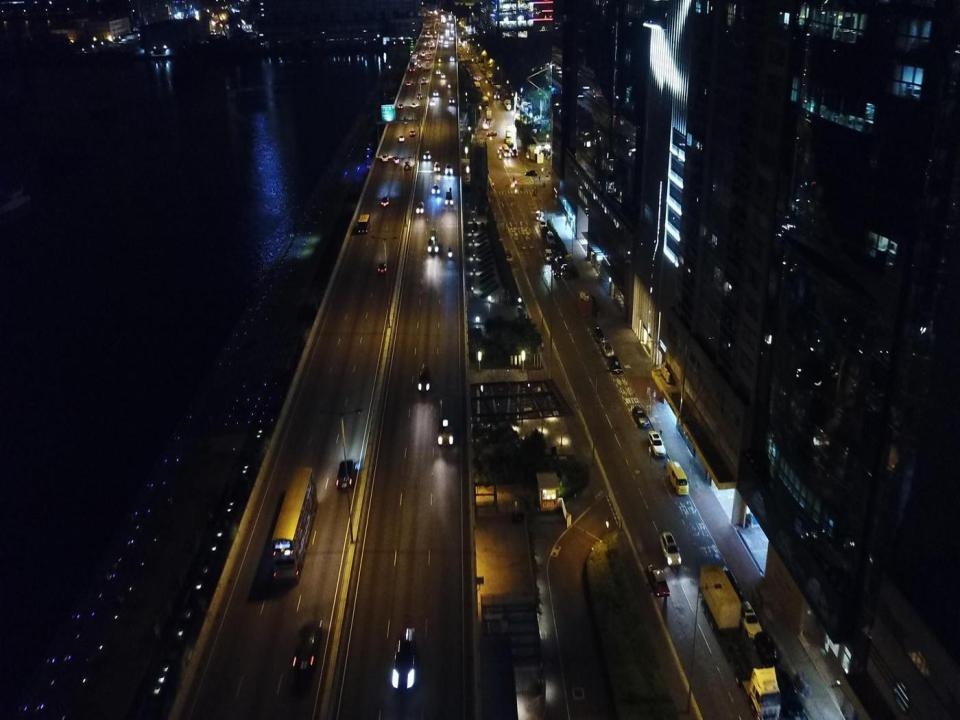bus: (272, 467, 318, 583), (438, 396, 453, 446), (428, 229, 437, 252), (551, 259, 561, 277), (502, 144, 510, 156), (412, 51, 418, 64), (449, 33, 453, 40)
car: (771, 670, 804, 719), (294, 619, 322, 674), (392, 628, 416, 690), (739, 600, 763, 638), (754, 631, 777, 669), (720, 570, 743, 605), (660, 532, 682, 566), (648, 564, 670, 596), (336, 459, 357, 490), (648, 430, 666, 457), (633, 406, 649, 428), (419, 365, 431, 393), (609, 354, 621, 373), (601, 340, 614, 356), (593, 326, 604, 341), (378, 262, 387, 274), (562, 265, 570, 278), (416, 201, 424, 213), (548, 242, 558, 251), (380, 197, 388, 207), (542, 225, 550, 235), (524, 170, 537, 176), (492, 90, 500, 99), (539, 220, 546, 230), (423, 151, 430, 160), (535, 211, 542, 220), (446, 164, 452, 174), (486, 130, 498, 135), (434, 162, 440, 171), (399, 134, 405, 142), (433, 185, 439, 192), (394, 156, 399, 164), (512, 148, 517, 156), (410, 130, 416, 136), (417, 93, 422, 100), (449, 97, 454, 104), (403, 116, 408, 123), (406, 81, 412, 86), (508, 143, 514, 148), (418, 62, 422, 69), (434, 90, 438, 96), (412, 102, 416, 108), (398, 104, 404, 108), (450, 28, 454, 33), (436, 69, 440, 74), (441, 73, 444, 79), (450, 57, 454, 61), (450, 23, 454, 26), (446, 29, 449, 33), (439, 39, 442, 43), (444, 41, 448, 44), (429, 50, 431, 54), (426, 57, 430, 59), (447, 22, 449, 25), (441, 35, 443, 38), (449, 15, 451, 17)
truck: (701, 565, 782, 719), (358, 214, 370, 234), (505, 128, 512, 143), (504, 99, 512, 110), (446, 192, 452, 205), (486, 109, 493, 118), (424, 62, 430, 70), (409, 62, 414, 71), (422, 76, 426, 84)
van: (667, 461, 689, 495), (546, 231, 555, 243), (544, 250, 552, 260), (382, 152, 389, 162), (404, 161, 410, 170), (422, 52, 424, 56)
